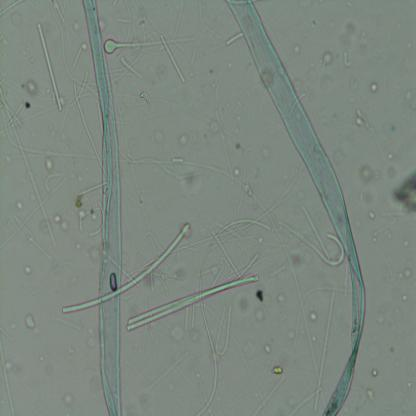Background material: (391, 170, 416, 218), (75, 201, 106, 237), (388, 267, 415, 284), (358, 163, 383, 181), (48, 0, 66, 23), (138, 88, 154, 112), (354, 108, 370, 131), (22, 73, 38, 96), (340, 22, 356, 44), (236, 292, 250, 316), (0, 318, 16, 338), (334, 142, 350, 162), (181, 171, 198, 189), (85, 326, 96, 352), (62, 390, 76, 409), (88, 244, 102, 262), (42, 153, 54, 174), (25, 313, 37, 333), (55, 216, 70, 232), (170, 323, 183, 341), (176, 130, 190, 146), (320, 50, 333, 67), (206, 120, 219, 134), (153, 129, 166, 143), (385, 164, 396, 180), (404, 90, 414, 107), (208, 76, 221, 89), (274, 293, 288, 305), (293, 188, 306, 200), (365, 388, 376, 402), (65, 343, 77, 355), (272, 364, 284, 376), (306, 310, 318, 322), (255, 307, 264, 322), (260, 146, 271, 158), (21, 264, 34, 274), (167, 380, 176, 394), (190, 46, 197, 64), (99, 17, 107, 31), (350, 78, 358, 92), (14, 200, 24, 211), (136, 18, 147, 28), (285, 329, 295, 340), (369, 231, 380, 241), (369, 82, 379, 93), (263, 342, 272, 354), (254, 290, 263, 302), (0, 36, 9, 47), (293, 45, 302, 56), (369, 368, 378, 378), (368, 210, 376, 220), (214, 396, 222, 405), (23, 100, 31, 109), (233, 168, 240, 178), (358, 192, 365, 202), (406, 41, 414, 49), (227, 61, 234, 70), (401, 293, 408, 302), (223, 102, 229, 112), (258, 102, 265, 110), (112, 0, 120, 7), (386, 230, 392, 239), (407, 380, 412, 390), (246, 91, 253, 98), (403, 241, 410, 248), (378, 316, 384, 324), (7, 155, 13, 163), (40, 356, 47, 362), (235, 102, 242, 108), (312, 19, 317, 27), (388, 154, 394, 160), (236, 143, 241, 150), (235, 115, 242, 120), (208, 69, 214, 74), (235, 127, 239, 134), (392, 125, 396, 132)
Cotton: (224, 0, 369, 416), (82, 0, 126, 416)
Glass filter fibre: (193, 219, 272, 415), (62, 223, 191, 315), (127, 275, 260, 330), (10, 126, 58, 249), (246, 187, 292, 266), (278, 219, 346, 269), (115, 139, 183, 181), (71, 80, 103, 169), (312, 290, 334, 413), (36, 23, 62, 112), (235, 146, 250, 268), (302, 206, 332, 262), (149, 352, 190, 390), (104, 37, 181, 55), (0, 77, 25, 131), (14, 218, 48, 256), (161, 34, 186, 84), (254, 376, 285, 414), (0, 340, 15, 415), (214, 302, 233, 356), (196, 0, 220, 39), (288, 390, 322, 415), (168, 0, 184, 48), (119, 54, 143, 80), (76, 178, 104, 198), (50, 314, 80, 330), (1, 2, 24, 19), (44, 174, 61, 190), (225, 32, 243, 47), (342, 50, 353, 68), (184, 307, 191, 331), (171, 153, 184, 165), (74, 46, 82, 64), (116, 18, 130, 22)
